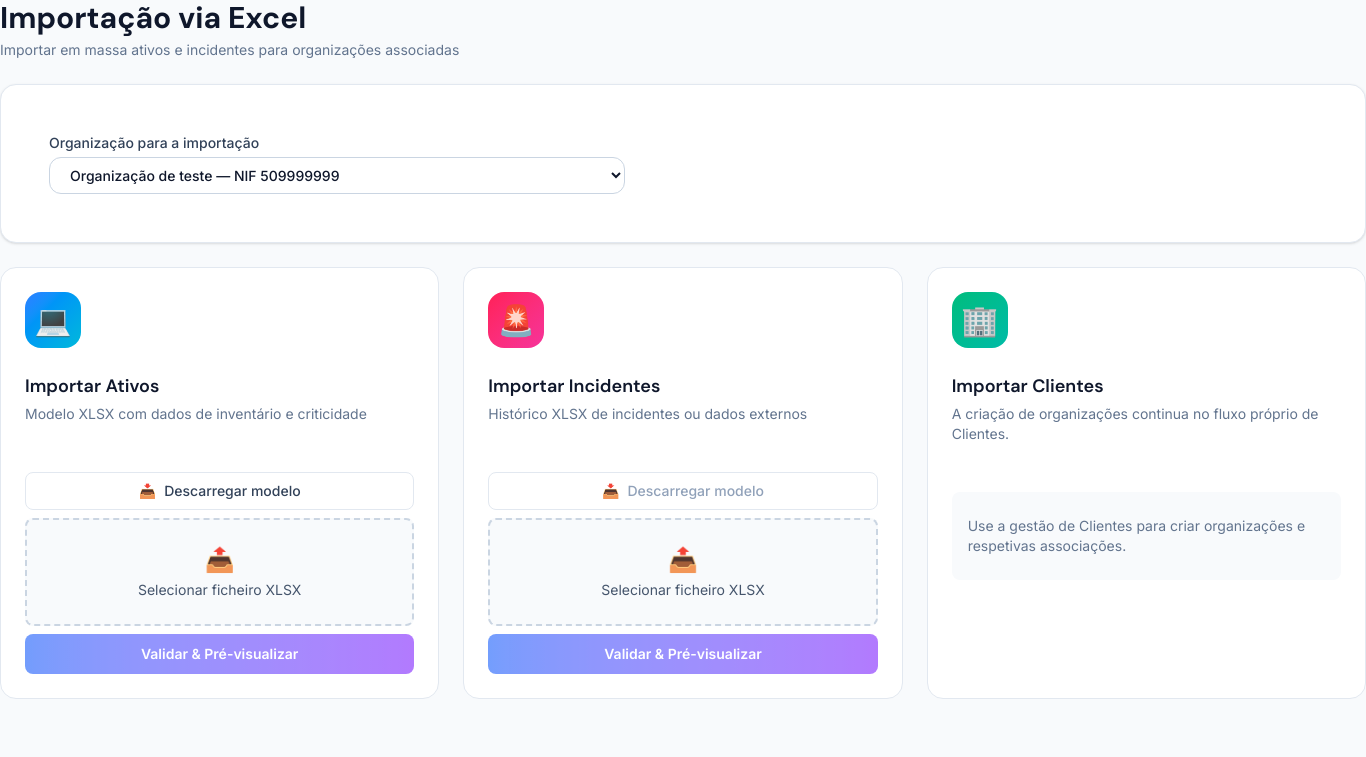
it: modelo Excel de ativos › apresenta feedback controlado quando a API de download falha
Step 1. Click the button with aria-label "Descarregar modelo de importação de ativos" → coordinates (220, 491), box [25, 472, 414, 510]
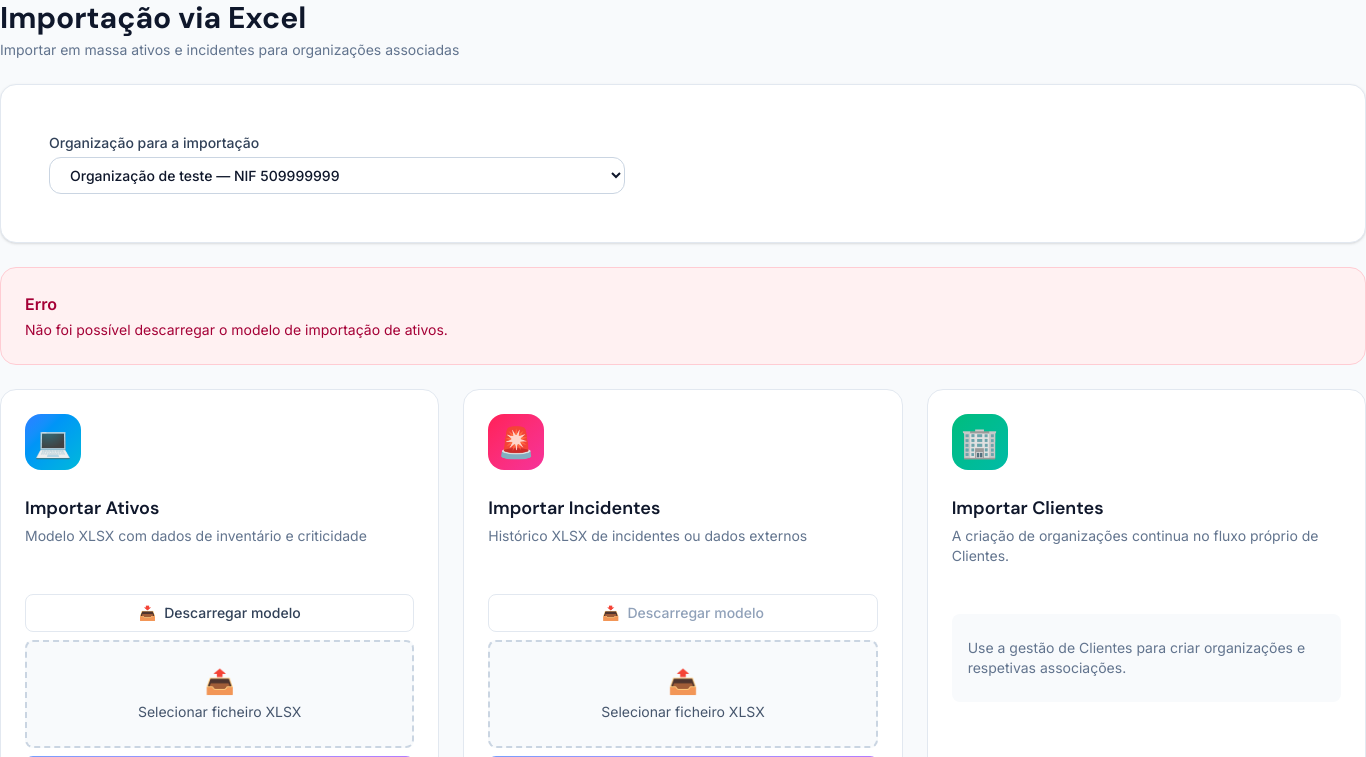
Expected: the button with aria-label "Descarregar modelo de importação de ativos" is enabled, [25, 594, 414, 632]
Now the message shows "Não foi possível descarregar o modelo de importação de ativos.", box [25, 321, 448, 338]
